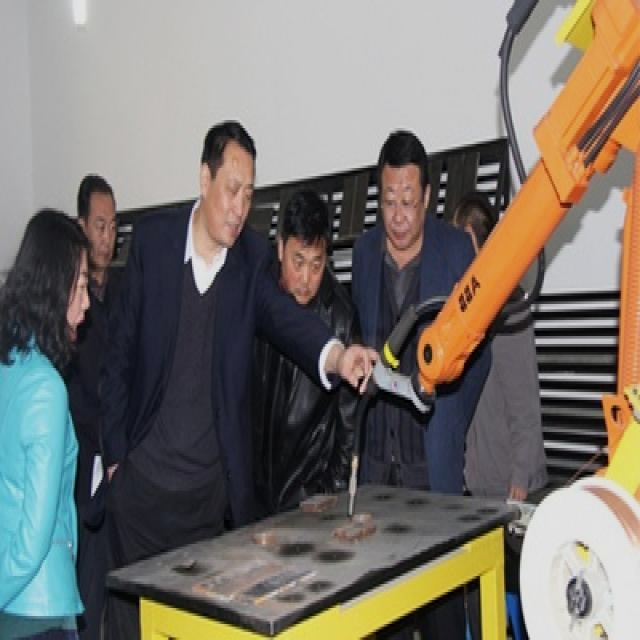Sin_Casco_Mascarrilla: (18, 210, 87, 359), (200, 123, 256, 240), (278, 192, 330, 304), (381, 131, 427, 243)
